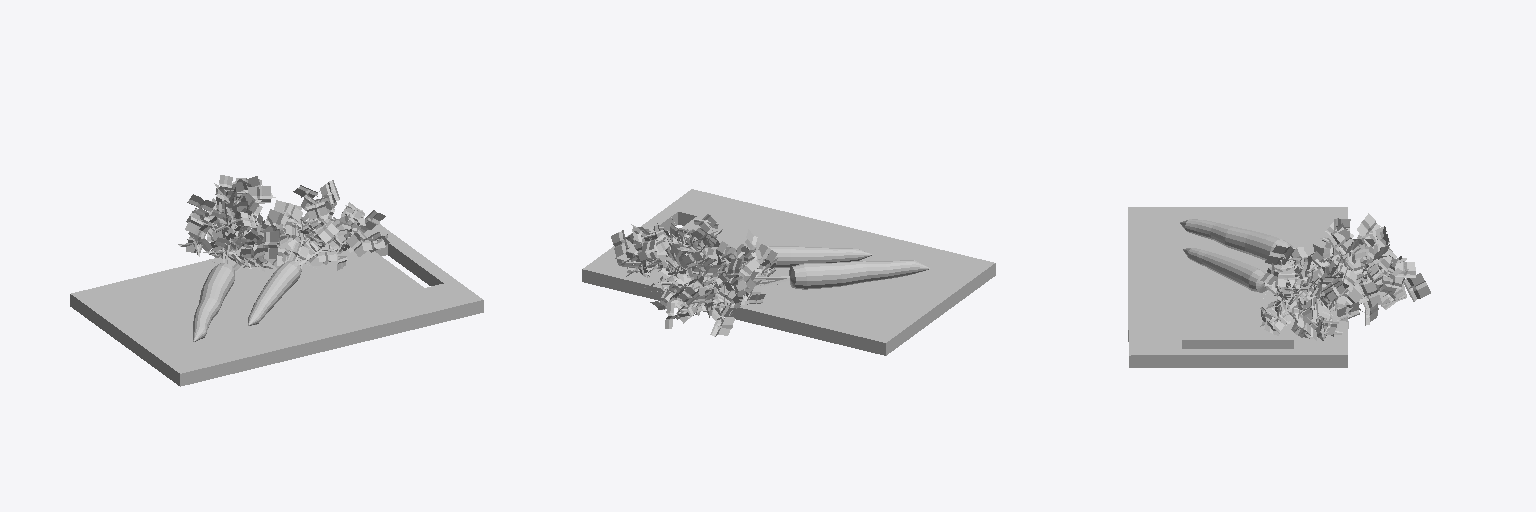
Rendered from carrots on desk.obj.
The picture shows the model from 3 angles: view 1: azimuth 30°, elevation 25°; view 2: azimuth 150°, elevation 25°; view 3: azimuth 270°, elevation 25°; orthographic projection.
Visible parts, largest first — view 1: desk, carrot_leaves, carrots; view 2: desk, carrot_leaves, carrots; view 3: desk, carrot_leaves, carrots.
Boxes of the visible parts, <box> form: desk: <box>70,224,483,386</box>; carrot_leaves: <box>178,175,389,272</box>; carrots: <box>193,261,301,341</box>; desk: <box>582,189,995,355</box>; carrot_leaves: <box>611,214,777,336</box>; carrots: <box>747,245,929,289</box>; desk: <box>1128,207,1347,367</box>; carrot_leaves: <box>1260,213,1430,340</box>; carrots: <box>1180,219,1292,292</box>.
Bounding box in the file's own units: 41.56 × 10.15 × 35.96.